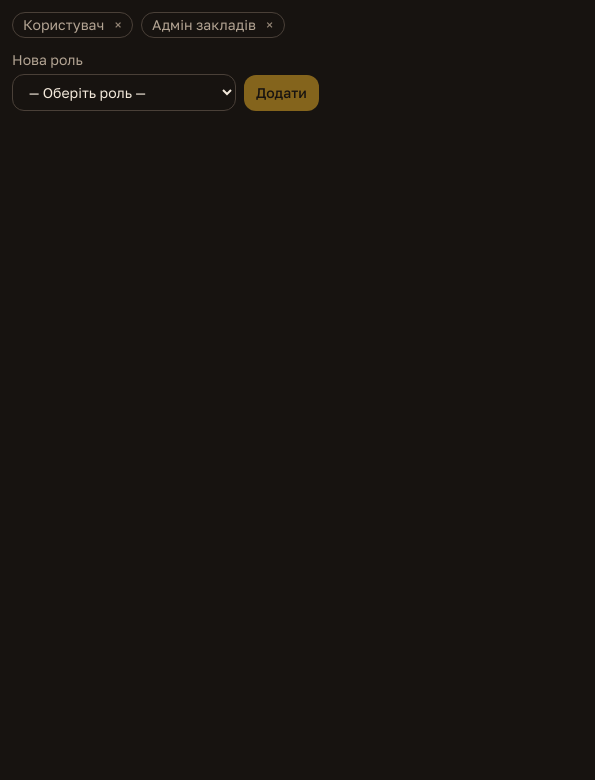
Test case: UserRolesManager › «×» на чипі → POST { roleCode: "venue_admin", action: "remove" } → toast + refresh
Click the button named "Зняти роль Адмін закладів": (270, 25) [260,15,280,35]
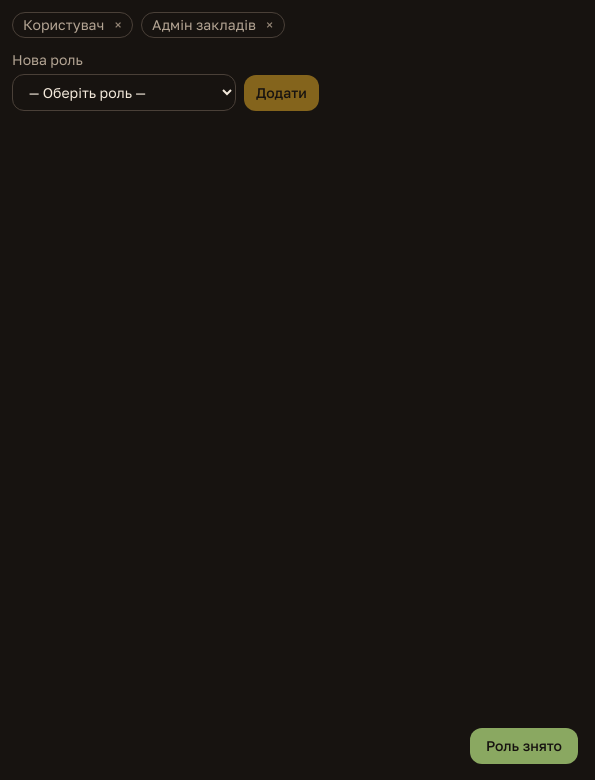
Expected: the message reads "Роль знято", [486,737,562,754]
